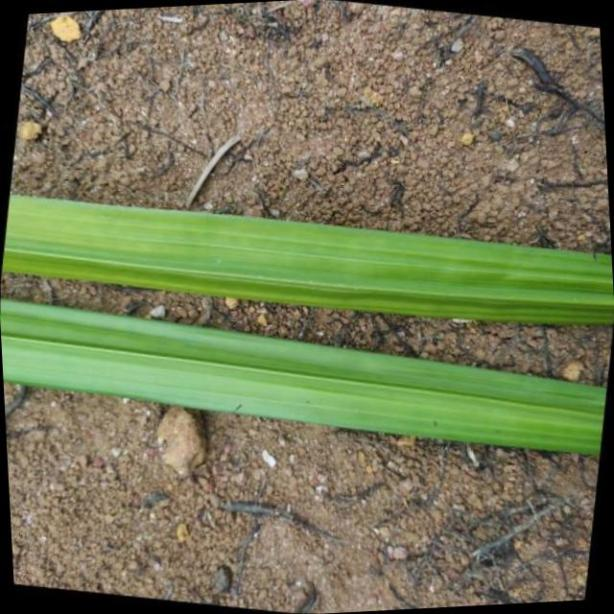nitrogen: (0, 299, 614, 453), (1, 182, 614, 330)
